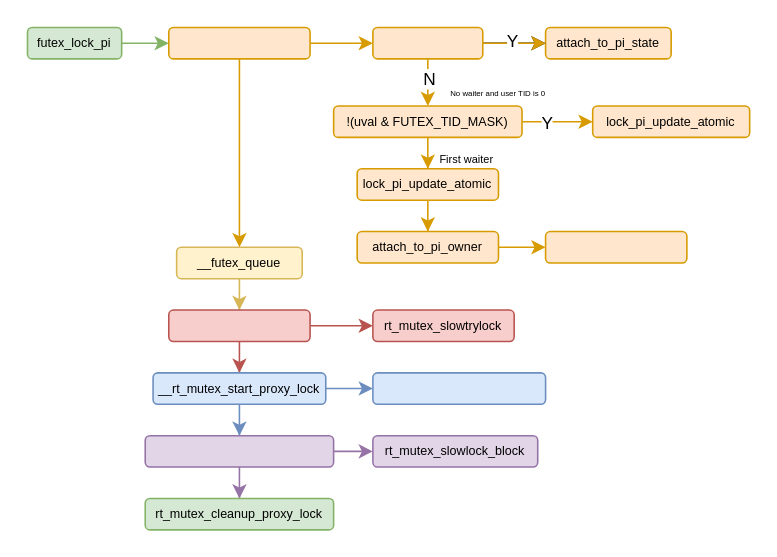
Image size: 777x557. Some labels were removed from this diagram. The box of each missing label's shape, as (x1, y1, x2, y2) in pixels:
alloc_pi_state: (544, 230, 687, 263)
futex_lock_pi_atomic: (167, 26, 310, 59)
rt_mutex_futex_trylock: (167, 309, 310, 341)
rt_mutex_wait_proxy_lock: (144, 434, 334, 467)
task_blocks_on_rt_mutex: (371, 371, 546, 404)
top_waiter: (371, 26, 483, 59)
